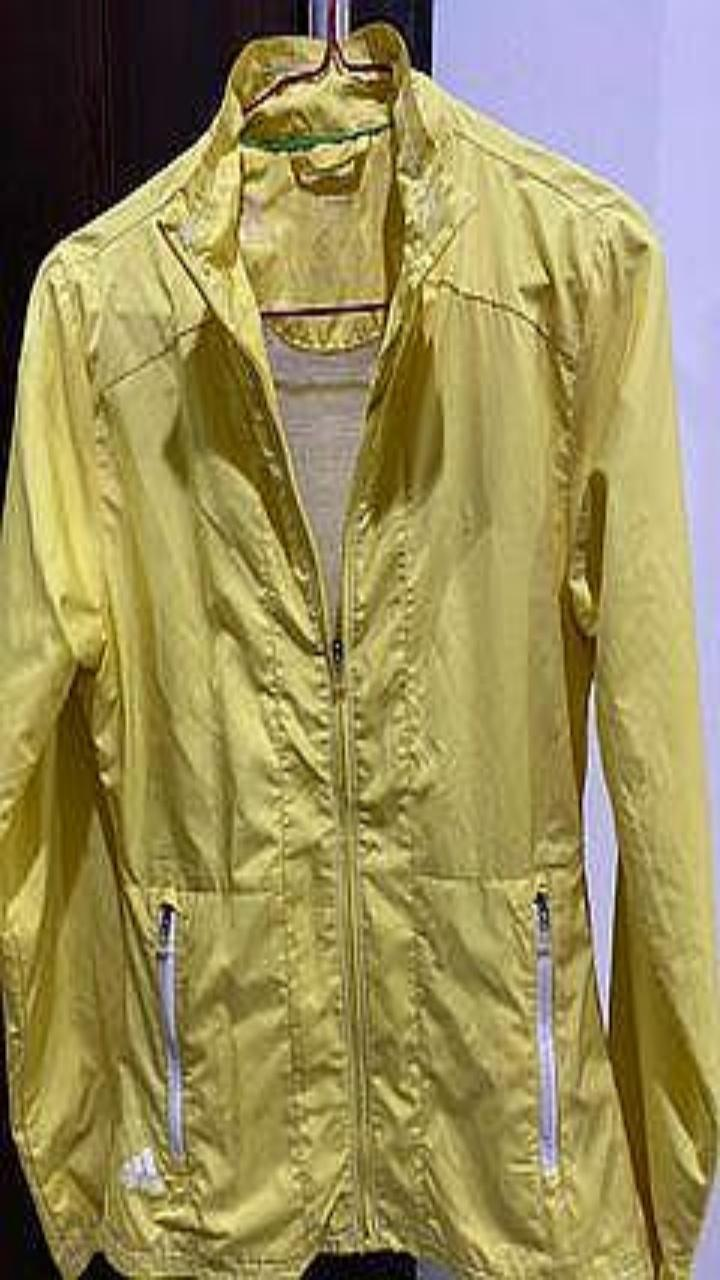Sports_Jacket: (0, 21, 719, 1279)
